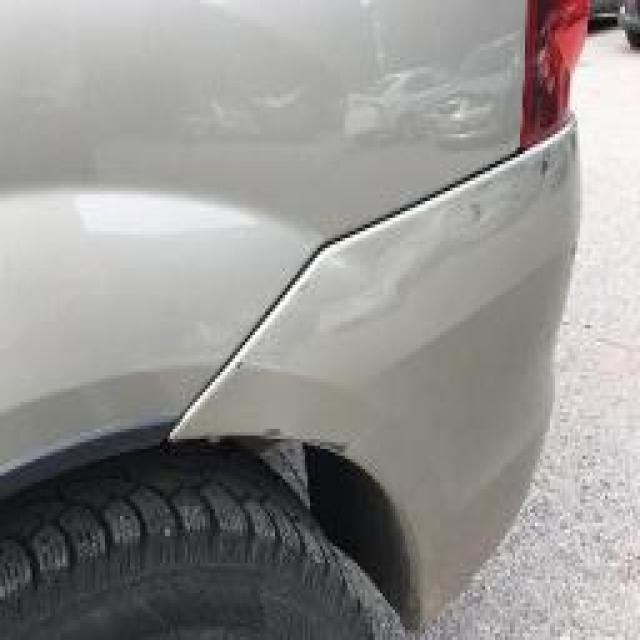Bumper: (310, 122, 606, 358)
